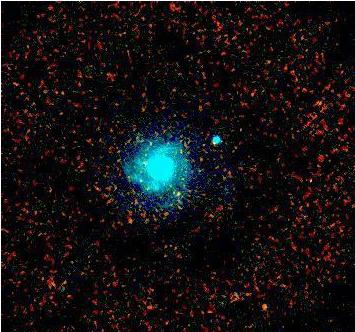star: (251, 292, 281, 322)
